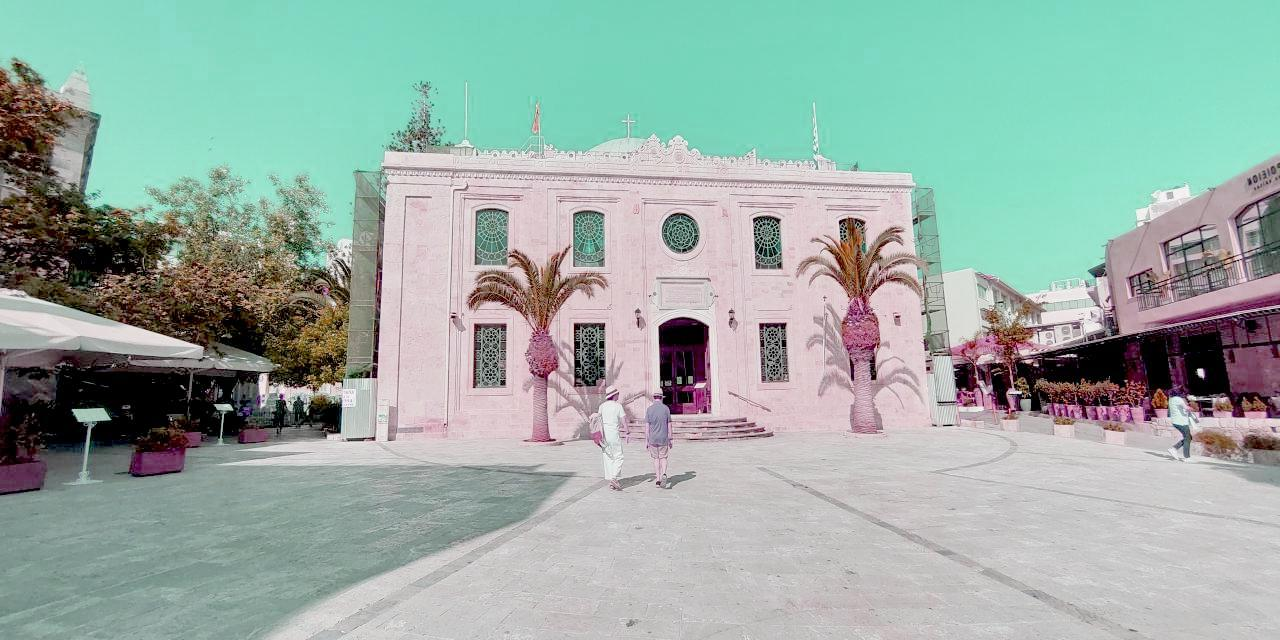Agios Titos: (377, 133, 916, 432)
